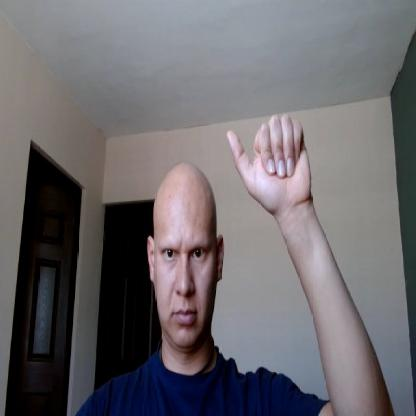A: (226, 113, 312, 208)
